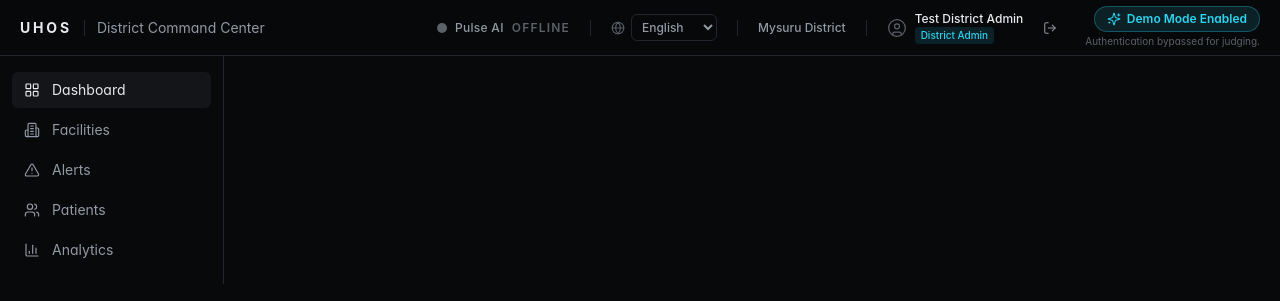
Language switching › updates the UI instantly when a new language is selected
Expected: the link "Dashboard" is shown, top-left (12, 72), bottom-right (211, 108)
Select "Hindi" in the dropdown named "Language" at (674, 28), box top-left (631, 14), bottom-right (717, 41)
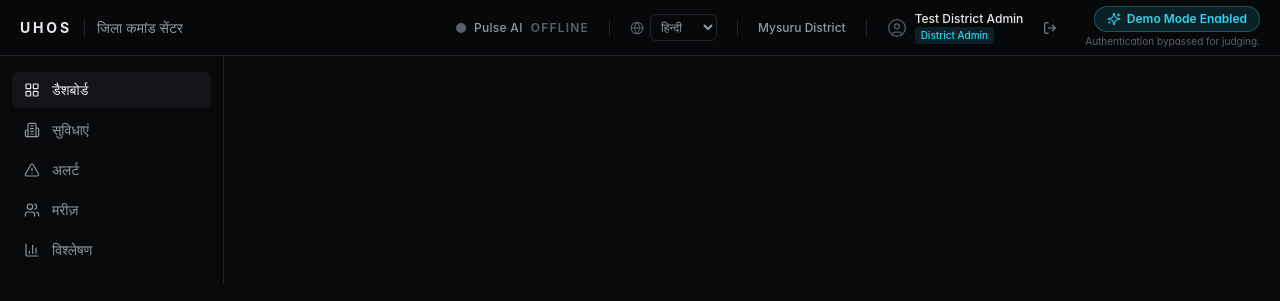
Now the link "डैशबोर्ड" is shown, box top-left (12, 72), bottom-right (211, 108)
Now the link "Dashboard" is gone
